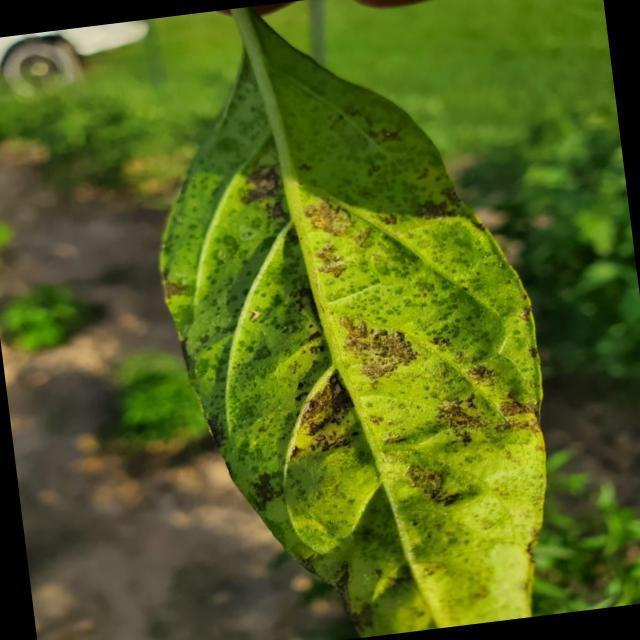Bacterial Spot: (187, 128, 548, 562)
